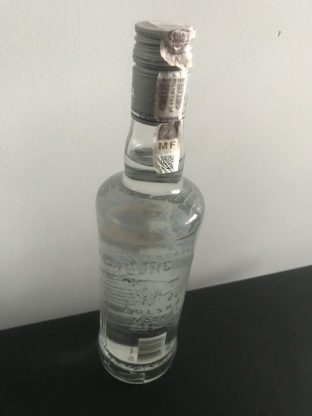nakretka: (129, 18, 197, 127)
